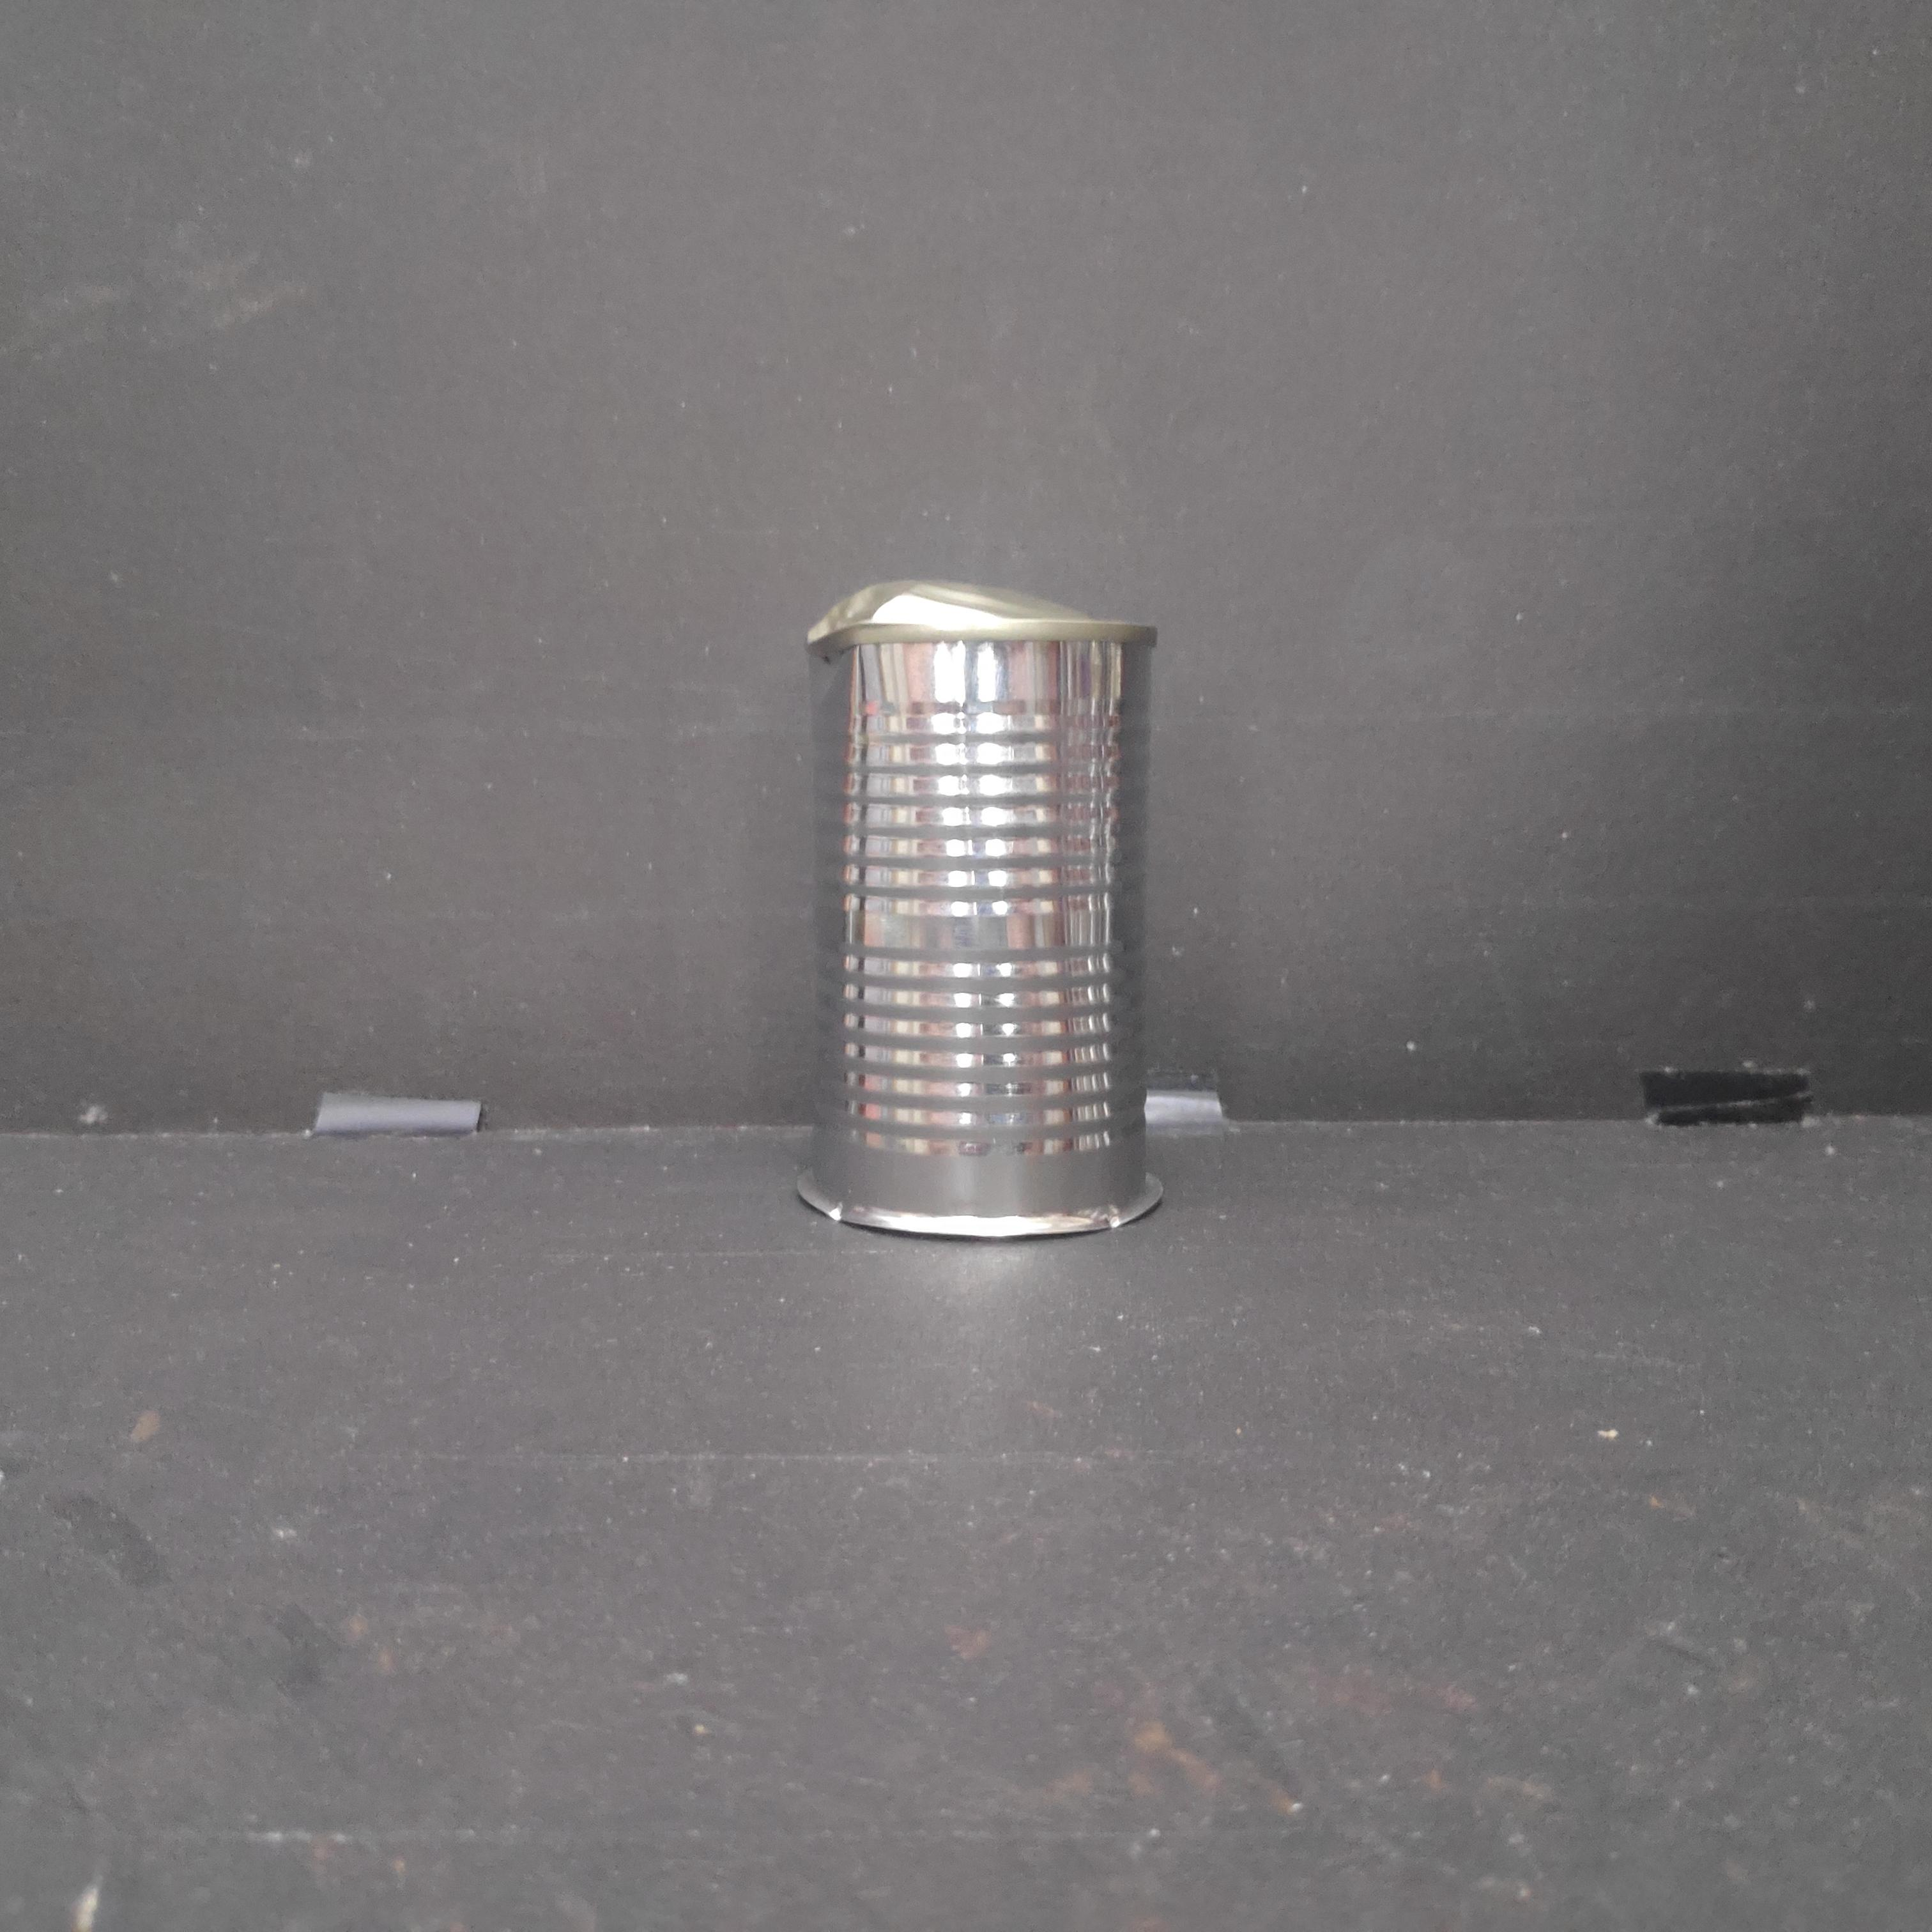Critical Defect: (796, 563, 1164, 1238)
